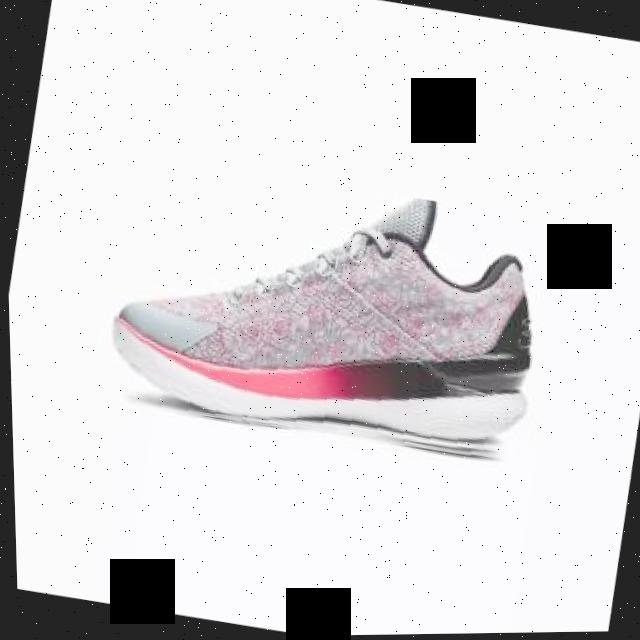shoe: (97, 154, 559, 474), (105, 200, 534, 449)
